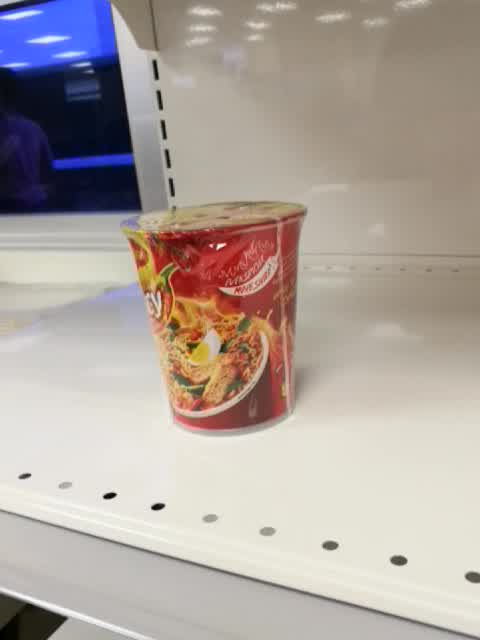maggi: (120, 200, 309, 436)
